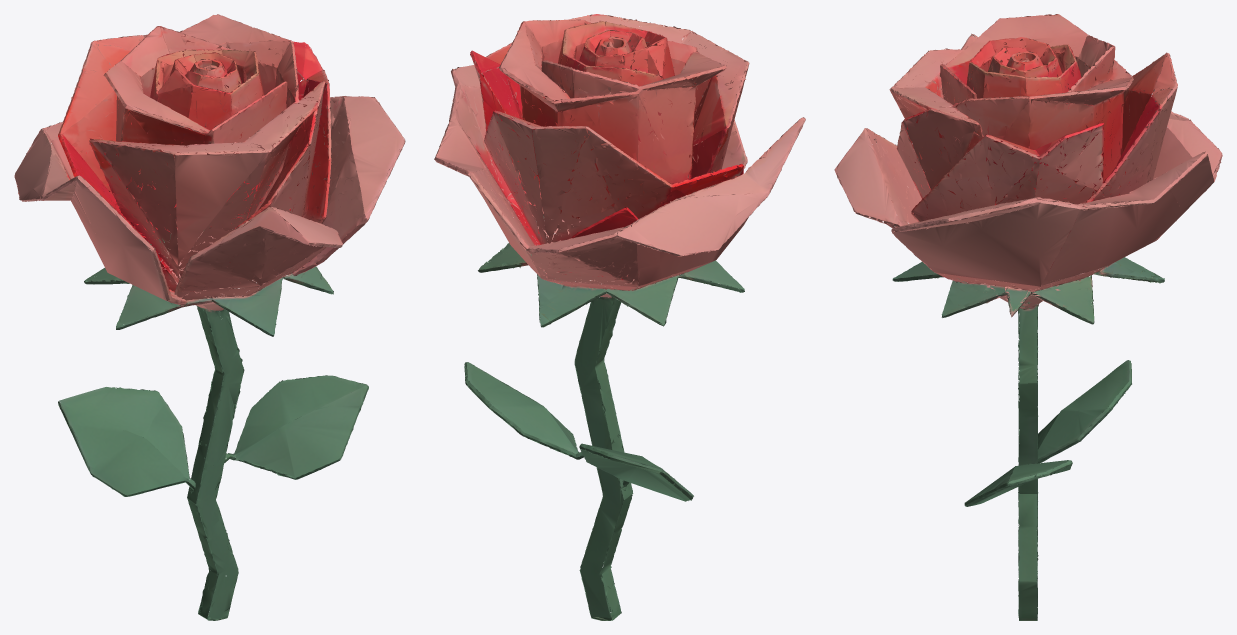
Rendered from rose.glb.
3 renders of one model, left to right at view 1: azimuth 30°, elevation 25°; view 2: azimuth 150°, elevation 25°; view 3: azimuth 270°, elevation 25°, orthographic. The views are drawn at different scales.
Parts seen in each view (by area): view 1: material.001; view 2: material.001; view 3: material.001.
Part boxes in pixels (left/top/right/bottom): material.001: left=14, top=14, right=405, bottom=620; material.001: left=434, top=14, right=805, bottom=620; material.001: left=834, top=14, right=1222, bottom=620.
Bounding box in the file's own units: 0.685 × 1.15 × 0.7168.
Materials: 1 (1 with a texture image).
